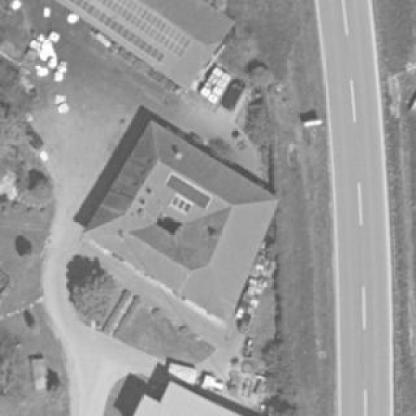solar-pv-panel: (67, 0, 166, 64), (97, 0, 193, 57), (165, 173, 212, 209), (171, 194, 194, 214)
